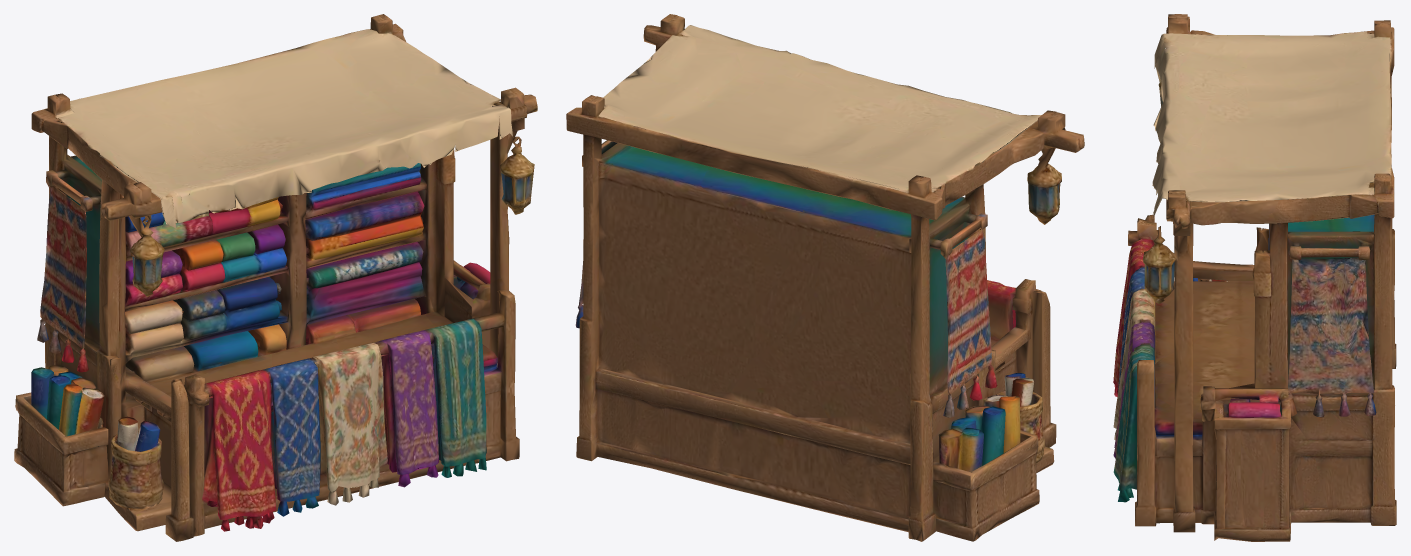
Rendered from souq_textile.glb.
3 views of the same model, side by side, from view 1: azimuth 30°, elevation 25°; view 2: azimuth 150°, elevation 25°; view 3: azimuth 270°, elevation 25° (orthographic). The views are drawn at different scales.
Bounding box in the file's own units: 0.9788 × 0.7659 × 0.5695.
1 material, 1 textured.
